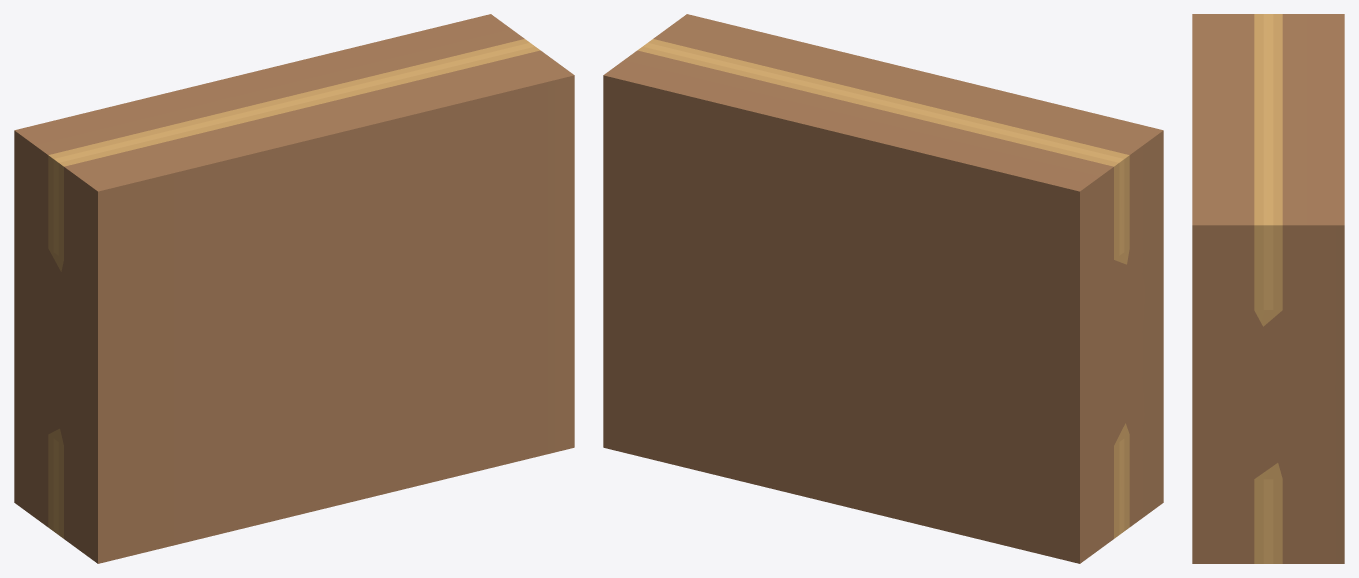
Rendered from Tan Packing Box #2.fbx.
3 renders of one model, left to right at view 1: azimuth 30°, elevation 25°; view 2: azimuth 150°, elevation 25°; view 3: azimuth 270°, elevation 25°, orthographic. The views are drawn at different scales.
Parts seen in each view (by area): view 1: Small Tan Packing Box #2; view 2: Small Tan Packing Box #2; view 3: Small Tan Packing Box #2.
Part boxes in pixels (x1,y1,x2,y2): Small Tan Packing Box #2: (14, 14, 574, 563); Small Tan Packing Box #2: (603, 14, 1163, 563); Small Tan Packing Box #2: (1192, 14, 1344, 563).
Bounding box in the file's own units: 199 × 81.25 × 267.
Materials: 1 (1 with a texture image).
